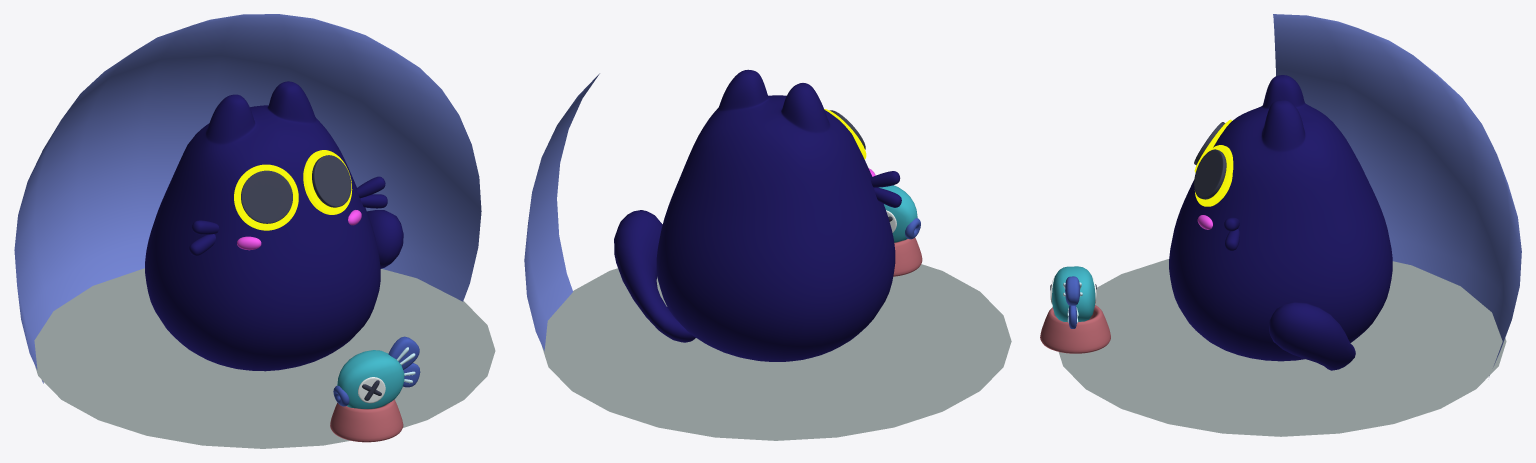
The picture shows the model from 3 angles, left to right: view 1: azimuth 30°, elevation 25°; view 2: azimuth 150°, elevation 25°; view 3: azimuth 270°, elevation 25°; orthographic projection. The views are drawn at different scales.
Parts seen in each view (by area): view 1: Background, Cat_Body, Ground, Fish, Cat_Eye_R, Cat_Eye_L, Bowl, Cat_Tail; view 2: Cat_Body, Ground, Background, Cat_Tail, Fish, Bowl; view 3: Ground, Cat_Body, Background, Cat_Tail, Fish, Bowl, Cat_Eye_L.
Boxes of the visible parts, x1,y1,x2,y2 form: Background: (14, 14, 481, 383); Cat_Body: (145, 81, 380, 371); Ground: (34, 268, 495, 448); Fish: (333, 336, 420, 408); Cat_Eye_R: (234, 164, 298, 230); Cat_Eye_L: (303, 150, 352, 214); Bowl: (330, 399, 403, 442); Cat_Tail: (367, 210, 403, 268); Cat_Body: (656, 69, 895, 361); Ground: (541, 264, 1011, 440); Background: (524, 73, 599, 351); Cat_Tail: (614, 210, 695, 342); Fish: (879, 185, 920, 242); Bowl: (893, 237, 922, 276); Ground: (1058, 259, 1506, 436); Cat_Body: (1169, 75, 1392, 361); Background: (1273, 14, 1521, 376); Cat_Tail: (1269, 302, 1355, 370); Fish: (1050, 266, 1096, 328); Bowl: (1040, 305, 1110, 353); Cat_Eye_L: (1194, 145, 1233, 206).
Size of the model in its own units: 1.27 by 0.9216 by 1.26.
